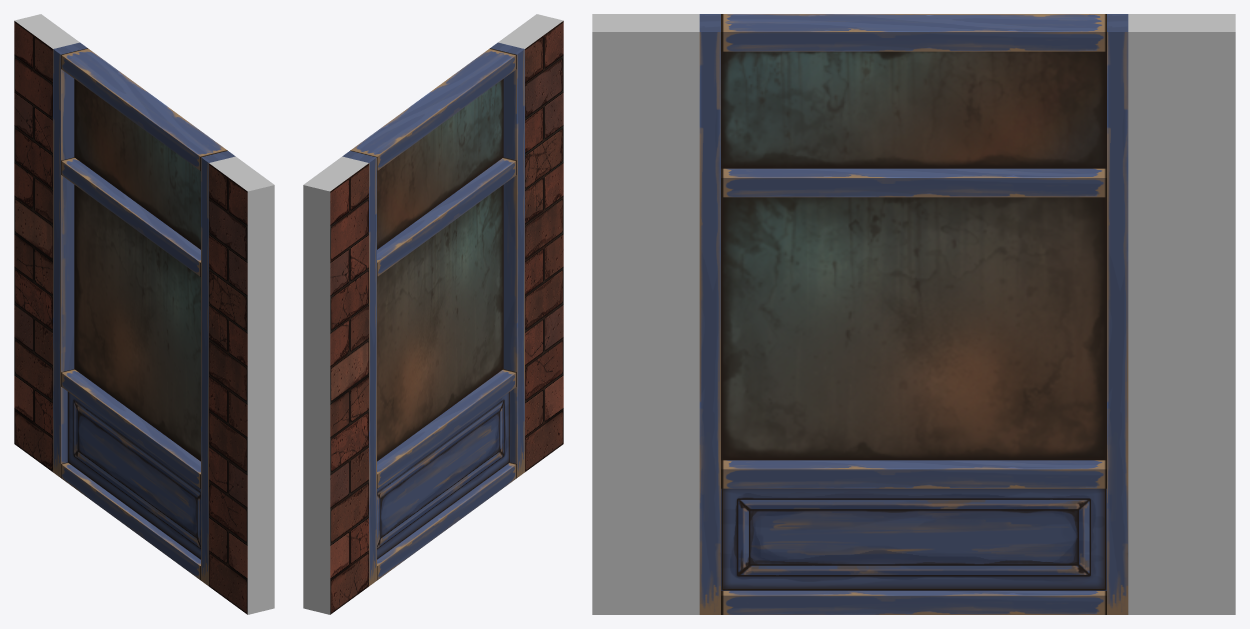
The model's file is storeFront02_window.FBX.
The picture shows the model from 3 angles, left to right: view 1: azimuth 30°, elevation 25°; view 2: azimuth 150°, elevation 25°; view 3: azimuth 270°, elevation 25°; orthographic projection. The views are drawn at different scales.
Visible parts, largest first — view 1: storeFront02_window, storeFront02_window_glass01, storeFront02_window_glass02; view 2: storeFront02_window, storeFront02_window_glass01, storeFront02_window_glass02; view 3: storeFront02_window, storeFront02_window_glass01, storeFront02_window_glass02.
Boxes of the visible parts, x1,y1,x2,y2 form: storeFront02_window: (14,14,274,614); storeFront02_window_glass01: (74,185,200,461); storeFront02_window_glass02: (74,79,200,249); storeFront02_window: (303,14,563,614); storeFront02_window_glass01: (377,185,503,461); storeFront02_window_glass02: (377,79,503,249); storeFront02_window: (592,14,1235,614); storeFront02_window_glass01: (721,197,1106,460); storeFront02_window_glass02: (721,51,1106,168).
Size of the model in its own units: 20 by 300 by 300.
